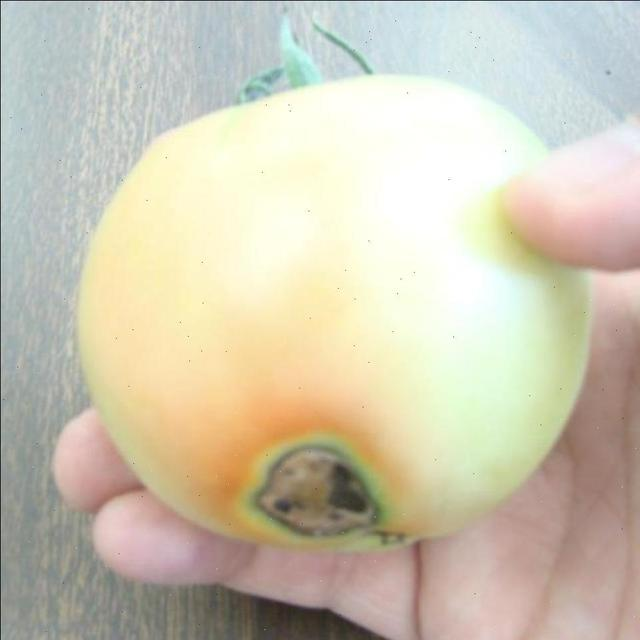Blossom End Rot Fruit: (167, 284, 280, 365)
